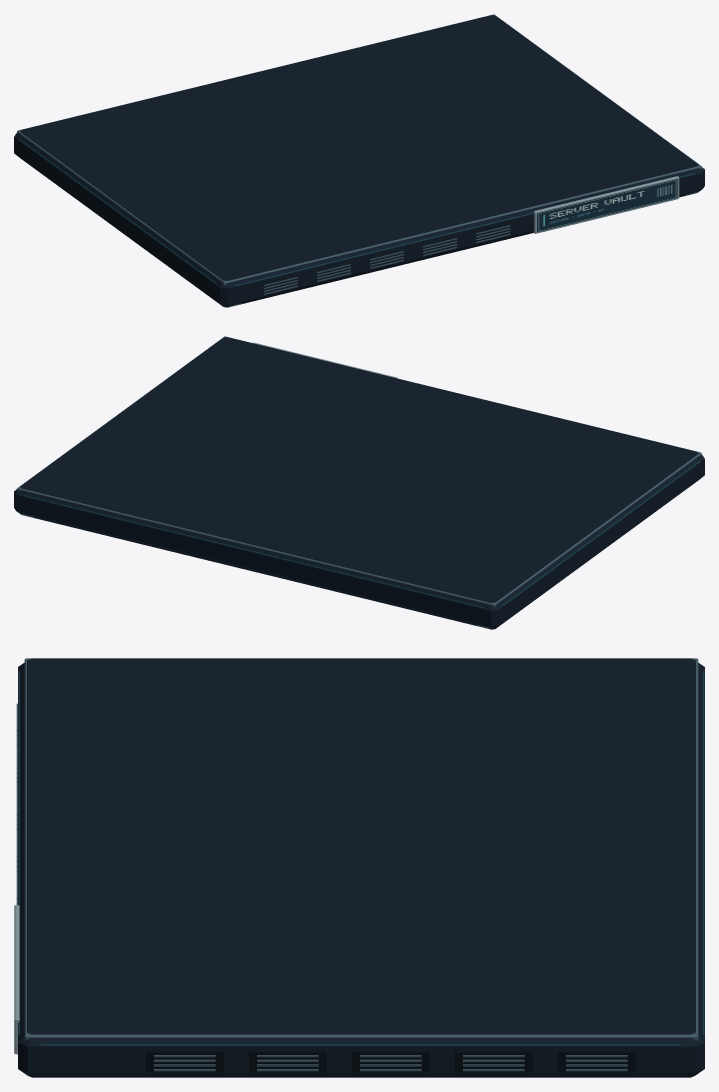
Rendered from vault-plinth.gltf.
The picture shows the model from 3 angles, top to bottom: view 1: azimuth 30°, elevation 25°; view 2: azimuth 150°, elevation 25°; view 3: azimuth 270°, elevation 25°; orthographic projection. The views are drawn at different scales.
Parts seen in each view (by area): view 1: plinth; view 2: plinth; view 3: plinth.
Part boxes in pixels (x1,y1,x2,y2): plinth: [14, 14, 704, 307]; plinth: [14, 336, 704, 629]; plinth: [14, 658, 704, 1077].
Bounding box in the file's own units: 12.36 × 0.715 × 9.39.
3 materials, 1 textured.
